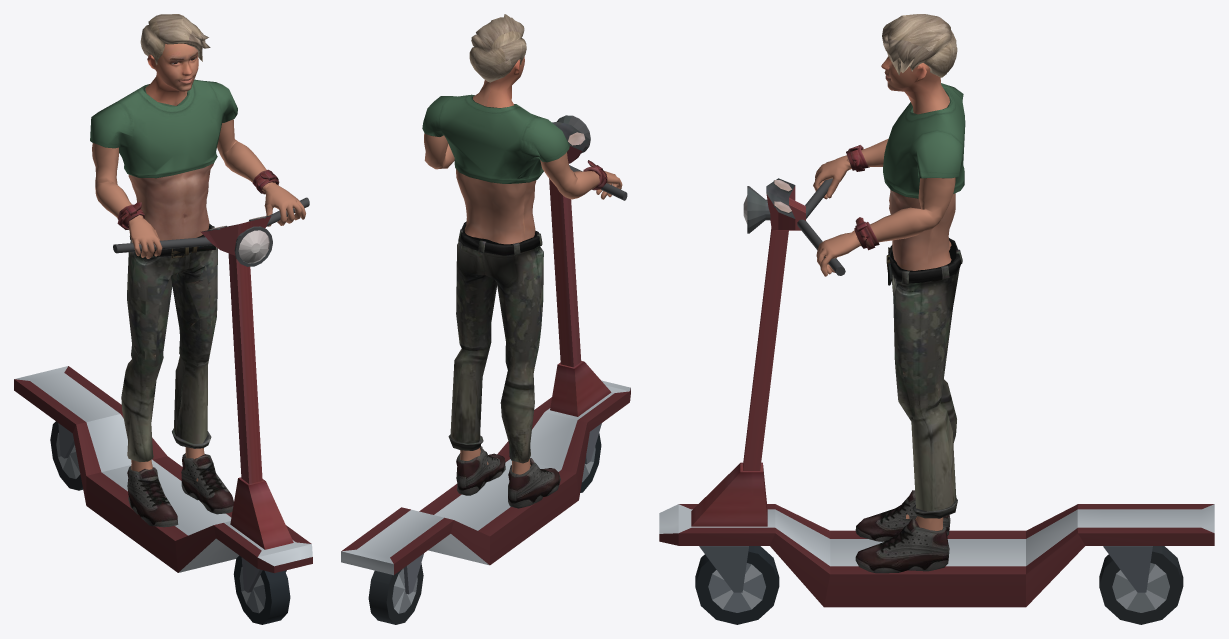
Rendered from low_poly_scooter_draco.glb.
The picture shows the model from 3 angles, left to right: view 1: azimuth 30°, elevation 25°; view 2: azimuth 150°, elevation 25°; view 3: azimuth 270°, elevation 25°; orthographic projection. The views are drawn at different scales.
Visible parts, largest first — view 1: Rider_0, Scooter_3, tireShape1.001_2, tireShape.001_1; view 2: Rider_0, Scooter_3, tireShape.001_1, tireShape1.001_2; view 3: Scooter_3, Rider_0, tireShape.001_1, tireShape1.001_2.
Part boxes in pixels (x1,y1,x2,y2): Rider_0: [90, 14, 305, 527]; Scooter_3: [14, 197, 312, 592]; tireShape1.001_2: [233, 555, 290, 624]; tireShape.001_1: [50, 421, 83, 490]; Rider_0: [422, 14, 622, 508]; Scooter_3: [341, 115, 630, 594]; tireShape.001_1: [368, 563, 423, 624]; tireShape1.001_2: [580, 433, 601, 492]; Scooter_3: [659, 178, 1214, 607]; Rider_0: [813, 14, 965, 573]; tireShape.001_1: [1099, 546, 1183, 624]; tireShape1.001_2: [695, 546, 779, 624].
Bounding box in the file's own units: 0.8159 × 2.22 × 1.85.
1 material, 1 textured.
